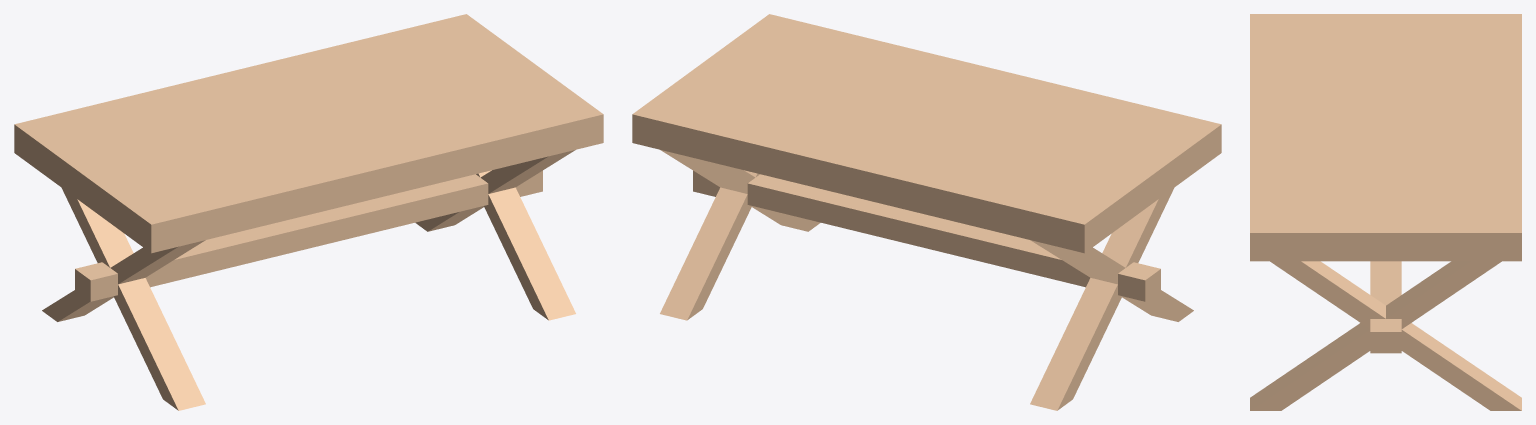
The model's file is tableCross.glb.
The picture shows the model from 3 angles, left to right: view 1: azimuth 30°, elevation 25°; view 2: azimuth 150°, elevation 25°; view 3: azimuth 270°, elevation 25°; orthographic projection.
Parts seen in each view (by area): view 1: tableCross(Clone); view 2: tableCross(Clone); view 3: tableCross(Clone).
Boxes of the visible parts, left/top/right/bottom form: tableCross(Clone): left=14, top=14, right=603, bottom=410; tableCross(Clone): left=632, top=14, right=1221, bottom=410; tableCross(Clone): left=1250, top=14, right=1521, bottom=410.
Size of the model in its own units: 1.73 by 0.7052 by 0.9082.
1 material, 1 textured.
